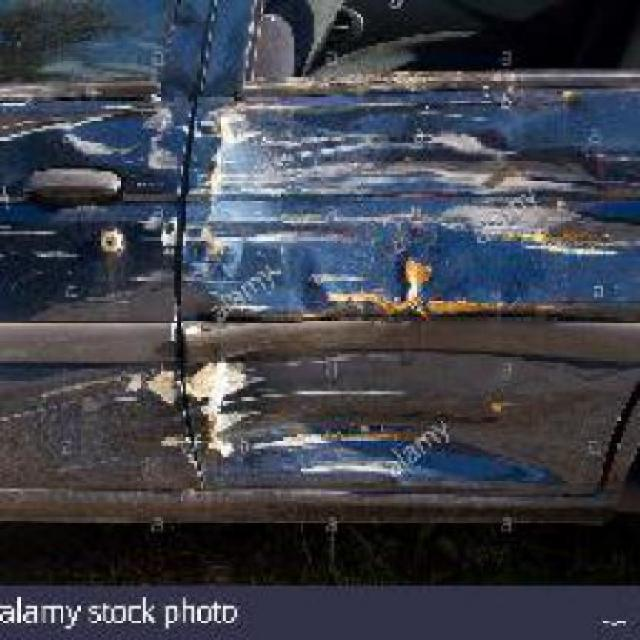damaged-door: (207, 0, 638, 502)
